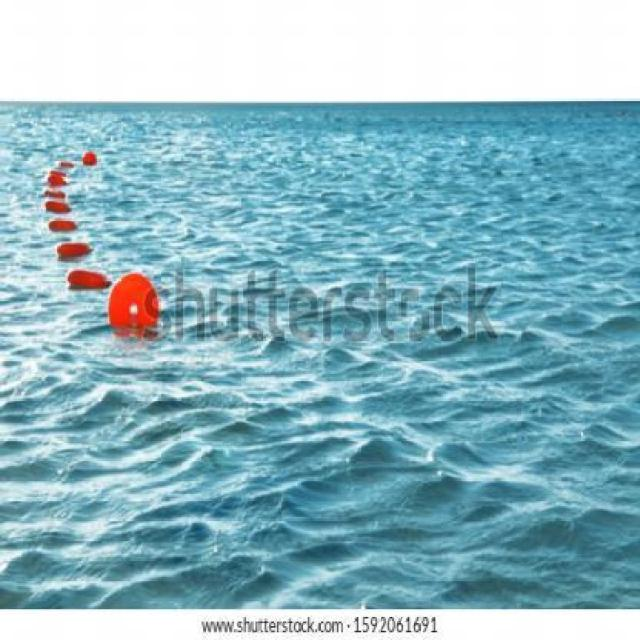no-oil: (22, 109, 640, 592)
